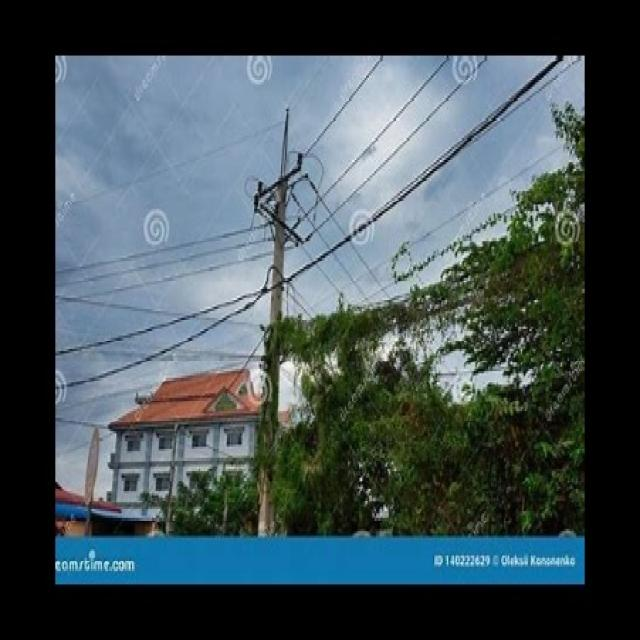critical vegetation: (266, 293, 582, 535)
